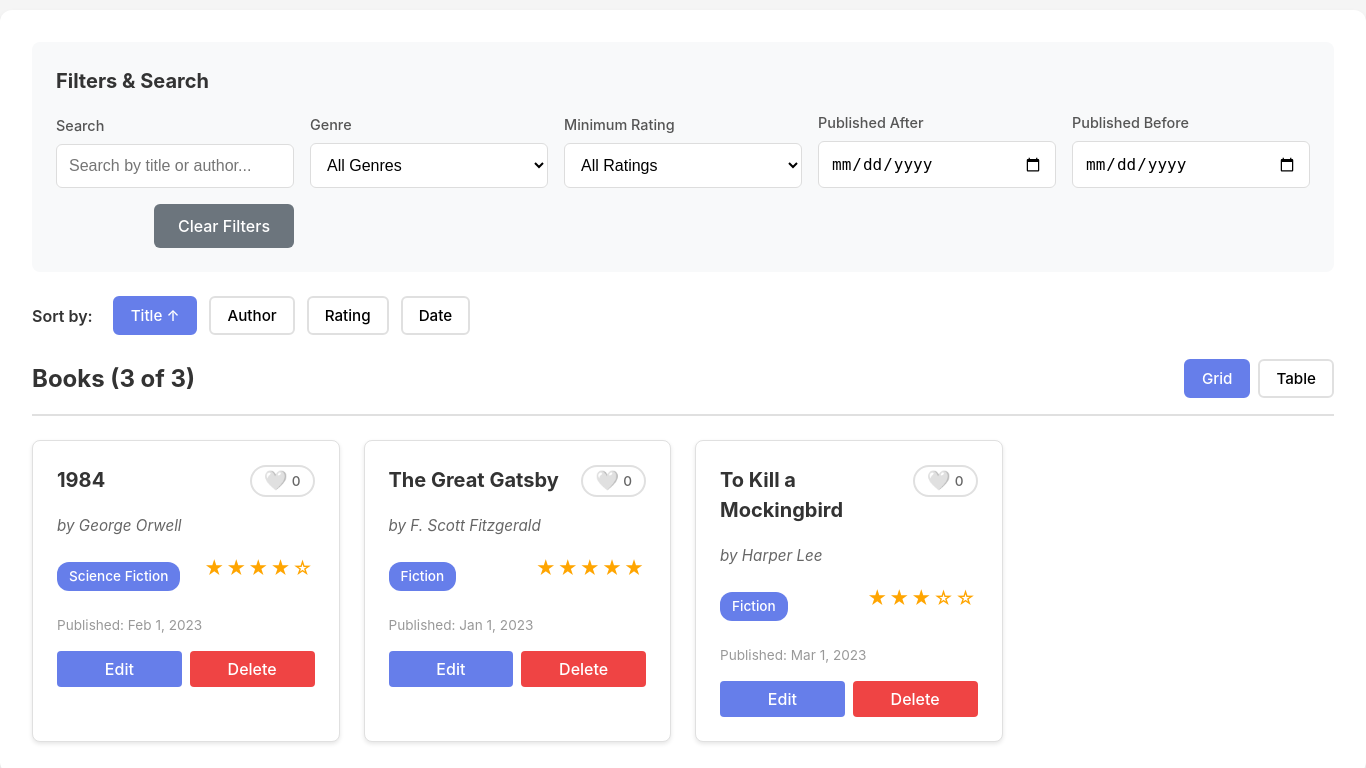
Test: BookList › Filtering and Sorting › filters books by search query
Type "Gatsby" into the field with placeholder "Search by title or author..." at point(175, 166), box x1=56 y1=144 x2=294 y2=188
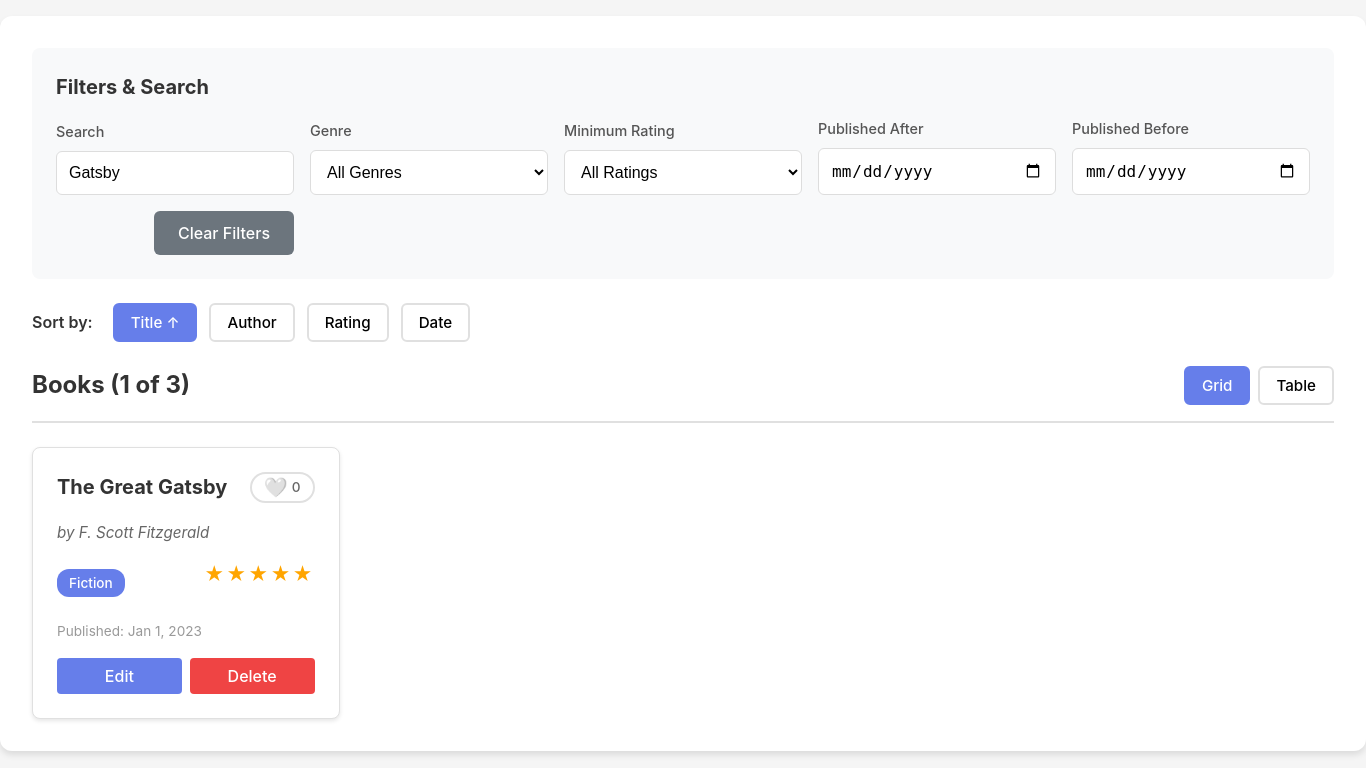
Expected: the heading "The Great Gatsby" is shown, x1=57 y1=472 x2=234 y2=502
Expected: the heading "1984" is gone
Expected: the heading "To Kill a Mockingbird" is gone
